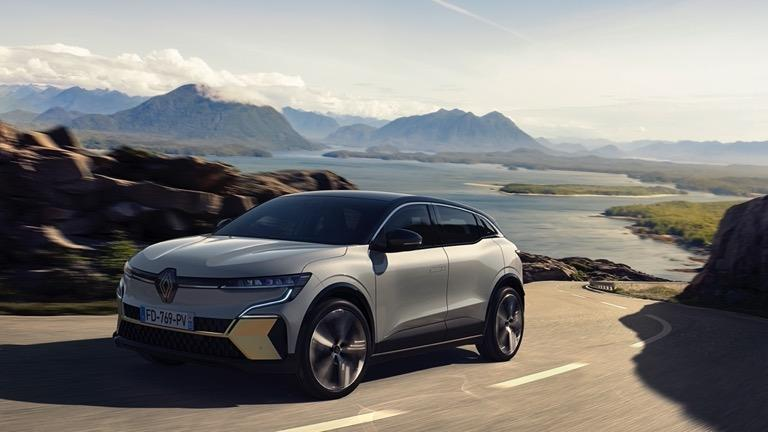Renault: (153, 264, 180, 307)
